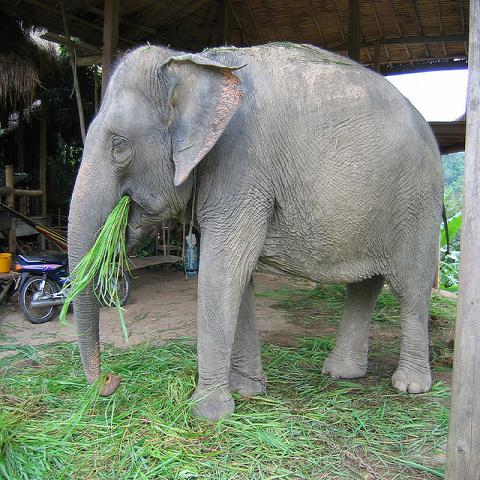motorcycle: (13, 252, 130, 327)
